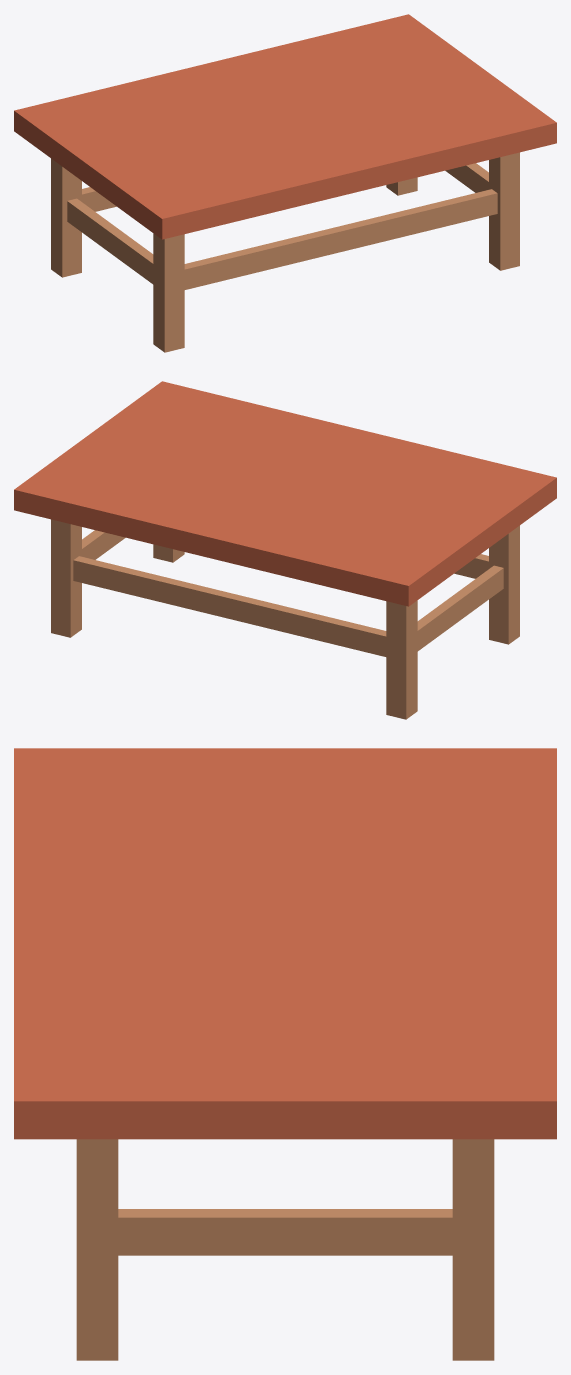
The model's file is basic_table.fbx.
The picture shows the model from 3 angles, top to bottom: view 1: azimuth 30°, elevation 25°; view 2: azimuth 150°, elevation 25°; view 3: azimuth 270°, elevation 25°; orthographic projection. The views are drawn at different scales.
Parts seen in each view (by area): view 1: furniture_table; view 2: furniture_table; view 3: furniture_table.
Part boxes in pixels (x1,y1,x2,y2): furniture_table: (14, 14, 556, 352); furniture_table: (14, 381, 556, 719); furniture_table: (14, 748, 556, 1360).
Bounding box in the file's own units: 10 × 3.66 × 6.5.
